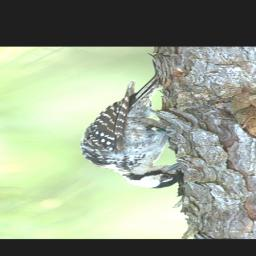Woodpecker: (77, 75, 183, 189)
